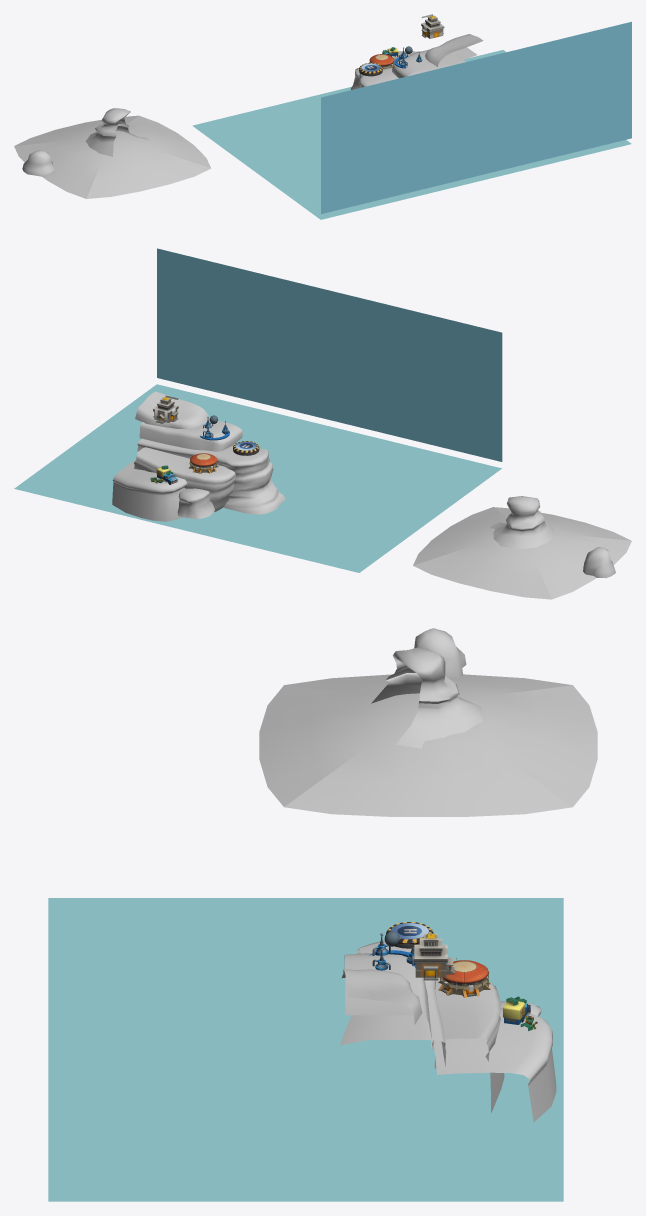
The model's file is denglu_scene.fbx.
3 views of the same model, one above another, from view 1: azimuth 30°, elevation 25°; view 2: azimuth 150°, elevation 25°; view 3: azimuth 270°, elevation 25° (orthographic). The views are drawn at different scales.
Parts seen in each view (by area): view 1: tiankong, haimian, stone7, stone6, stone10, stone3, stone8, stone1, gh; view 2: tiankong, haimian, stone7, stone1, stone2, stone4, stone6, stone10, stone3, stone5, stone8, gh (+1 smaller); view 3: haimian, stone7, stone2, stone6, stone4, stone1, stone10, stone3, gh, jjc, stone8, zy (+1 smaller).
Part boxes in pixels (x1=…): tiankong: x1=321, y1=21, x2=631, y2=213; haimian: x1=192, y1=50, x2=631, y2=219; stone7: x1=14, y1=115, x2=211, y2=198; stone6: x1=85, y1=108, x2=149, y2=156; stone10: x1=392, y1=47, x2=477, y2=78; stone3: x1=425, y1=34, x2=483, y2=66; stone8: x1=22, y1=150, x2=54, y2=176; stone1: x1=359, y1=60, x2=465, y2=87; gh: x1=421, y1=14, x2=444, y2=38; tiankong: x1=157, y1=248, x2=502, y2=461; haimian: x1=14, y1=384, x2=501, y2=572; stone7: x1=413, y1=507, x2=631, y2=599; stone1: x1=137, y1=438, x2=285, y2=514; stone2: x1=112, y1=460, x2=187, y2=521; stone4: x1=134, y1=447, x2=235, y2=511; stone6: x1=490, y1=496, x2=555, y2=549; stone10: x1=139, y1=418, x2=242, y2=451; stone3: x1=135, y1=391, x2=209, y2=429; stone5: x1=177, y1=488, x2=214, y2=519; stone8: x1=583, y1=547, x2=615, y2=578; gh: x1=153, y1=395, x2=178, y2=423; haimian: x1=48, y1=898, x2=563, y2=1201; stone7: x1=259, y1=674, x2=597, y2=816; stone2: x1=433, y1=1008, x2=556, y2=1122; stone6: x1=371, y1=647, x2=483, y2=748; stone4: x1=431, y1=977, x2=504, y2=1112; stone1: x1=340, y1=940, x2=446, y2=1066; stone10: x1=344, y1=953, x2=431, y2=1038; stone3: x1=341, y1=969, x2=422, y2=1024; gh: x1=414, y1=930, x2=454, y2=980; jjc: x1=438, y1=958, x2=490, y2=997; stone8: x1=414, y1=628, x2=466, y2=677; zy: x1=369, y1=931, x2=415, y2=970.
Size of the model in its own units: 139077 by 32270 by 64934.
